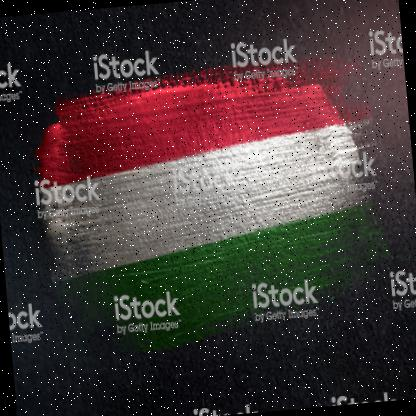hu: (59, 82, 369, 333)
